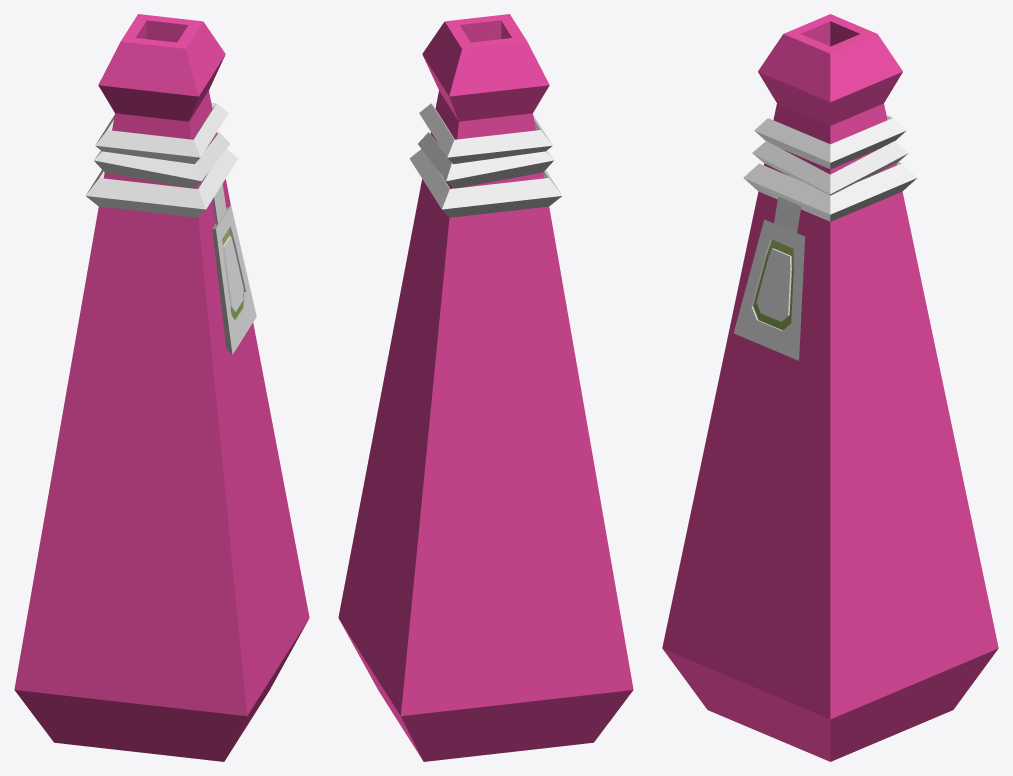
Rendered from Potion_01.glb.
3 views of the same model, side by side, from view 1: azimuth 30°, elevation 25°; view 2: azimuth 150°, elevation 25°; view 3: azimuth 270°, elevation 25° (orthographic).
Visible parts, largest first — view 1: Potion_01; view 2: Potion_01; view 3: Potion_01.
Boxes of the visible parts, x1,y1,x2,y2 form: Potion_01: [14, 14, 309, 761]; Potion_01: [338, 14, 633, 761]; Potion_01: [662, 14, 998, 761].
Size of what is drawn, in the model's own units: 0.2111 by 0.468 by 0.2111.
Materials: 1 (1 with a texture image).
